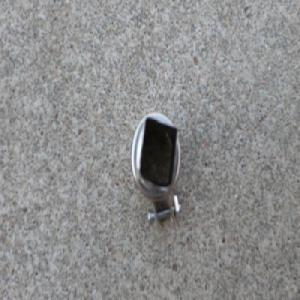MetalPart: (129, 110, 182, 237)
